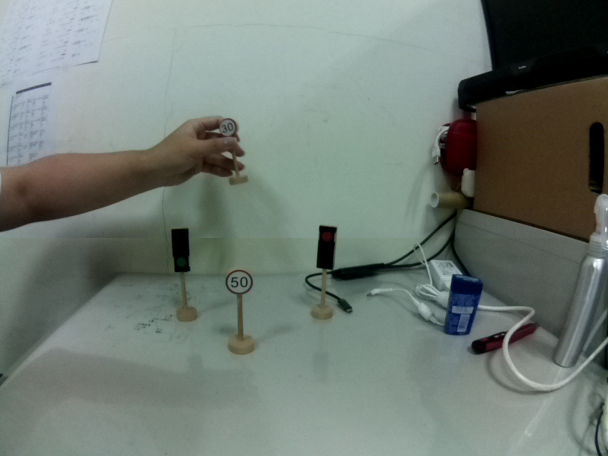Green: (167, 227, 198, 277)
Red: (313, 222, 340, 274)
Speed30: (215, 116, 239, 142)
Speed50: (224, 269, 256, 296)
